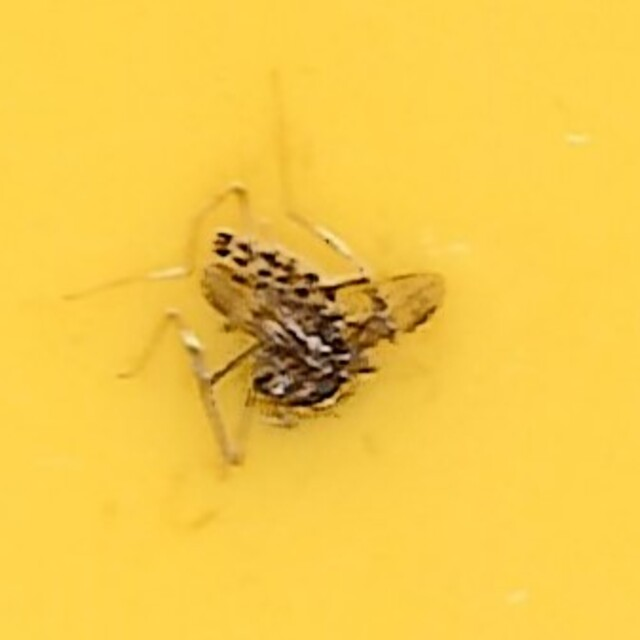Nematocera: (190, 212, 450, 428)
